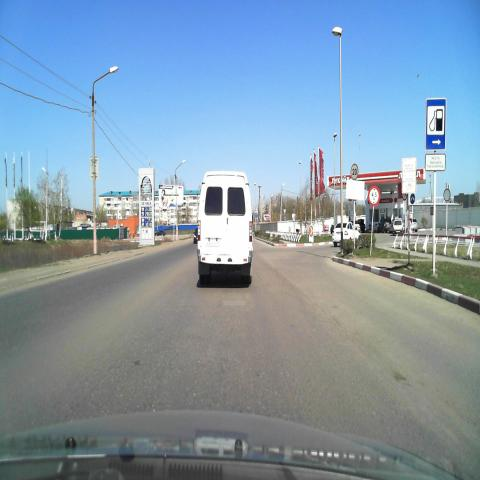3_13: (368, 186, 380, 208)
3_2: (443, 188, 451, 202)
